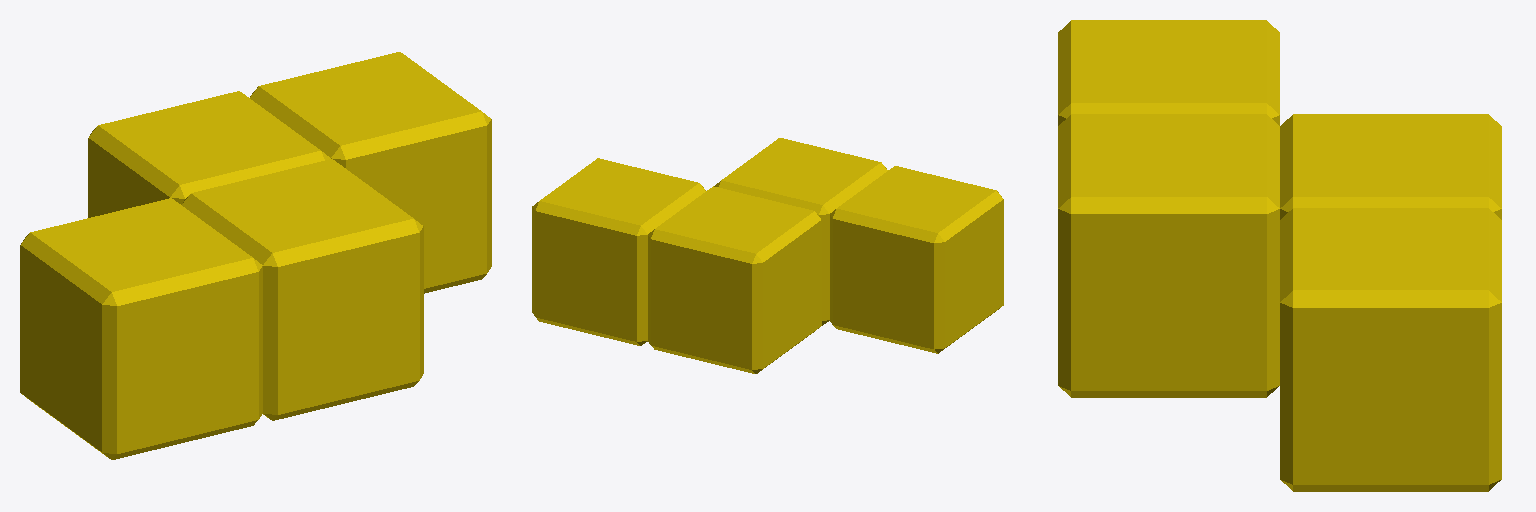
--- What the picture shows (computed from the rendered views, not written in the file) ---
3 views of the same robot in one strip: view 1: azimuth 30°, elevation 25°; view 2: azimuth 150°, elevation 25°; view 3: azimuth 270°, elevation 25° (orthographic).
Robot: obj_4 — 1 links, 0 joints (none); root link obj_4_link; default pose: all joints at 0.
Visible links, largest first — view 1: obj_4_link; view 2: obj_4_link; view 3: obj_4_link.
Boxes of the visible links, x1=… form: obj_4_link: x1=20, y1=52, x2=491, y2=459; obj_4_link: x1=532, y1=138, x2=1003, y2=373; obj_4_link: x1=1058, y1=20, x2=1501, y2=491.
Size in the robot's own frame: 0.375 by 0.25 by 0.125 metres.
1 mesh visuals loaded from 1 distinct referenced files (1 OBJ).

robot.urdf — obj_4:
<robot name="obj_4" version="1.0">
  <link name="obj_4_link">
    <collision name="obj_4-collision.001">
      <origin rpy="3.14159 -1.57080 0.00000" xyz="0.33845 0.22784 0.06446"/>
      <geometry>
        <mesh filename="../meshes/obj/obj_4-collision.001.obj" scale="1.00000 1.00000 1.00000"/>
      </geometry>
    </collision>
    <collision name="obj_4-collision.002">
      <origin rpy="3.14159 -1.57080 0.00000" xyz="0.21345 0.10284 0.06446"/>
      <geometry>
        <mesh filename="../meshes/obj/obj_4-collision.002.obj" scale="1.00000 1.00000 1.00000"/>
      </geometry>
    </collision>
    <collision name="obj_4-collision.003">
      <origin rpy="0.78540 0.00000 0.00000" xyz="0.27595 0.16909 0.12321"/>
      <geometry>
        <mesh filename="../meshes/obj/obj_4-collision.003.obj" scale="1.00000 1.00000 1.00000"/>
      </geometry>
    </collision>
    <collision name="obj_4-collision.004">
      <origin rpy="-0.00000 0.00000 -1.57080" xyz="0.27595 0.22784 0.12696"/>
      <geometry>
        <mesh filename="../meshes/obj/obj_4-collision.004.obj" scale="1.00000 1.00000 1.00000"/>
      </geometry>
    </collision>
    <collision name="obj_4-collision.005">
      <origin rpy="1.57080 -0.00000 2.35619" xyz="0.33470 0.28659 0.06446"/>
      <geometry>
        <mesh filename="../meshes/obj/obj_4-collision.005.obj" scale="1.00000 1.00000 1.00000"/>
      </geometry>
    </collision>
    <collision name="obj_4-collision.006">
      <origin rpy="-3.14159 -0.00000 1.57080" xyz="0.27595 0.22784 0.00196"/>
      <geometry>
        <mesh filename="../meshes/obj/obj_4-collision.006.obj" scale="1.00000 1.00000 1.00000"/>
      </geometry>
    </collision>
    <collision name="obj_4-collision.007">
      <origin rpy="2.35619 -0.00000 3.14159" xyz="0.27595 0.28659 0.00571"/>
      <geometry>
        <mesh filename="../meshes/obj/obj_4-collision.007.obj" scale="1.00000 1.00000 1.00000"/>
      </geometry>
    </collision>
    <collision name="obj_4-collision.008">
      <origin rpy="0.78540 -0.00000 -3.14159" xyz="0.27595 0.28659 0.12321"/>
      <geometry>
        <mesh filename="../meshes/obj/obj_4-collision.008.obj" scale="1.00000 1.00000 1.00000"/>
      </geometry>
    </collision>
    <collision name="obj_4-collision.009">
      <origin rpy="0.78540 0.00000 -1.57080" xyz="0.21720 0.22784 0.12321"/>
      <geometry>
        <mesh filename="../meshes/obj/obj_4-collision.009.obj" scale="1.00000 1.00000 1.00000"/>
      </geometry>
    </collision>
    <collision name="obj_4-collision.010">
      <origin rpy="1.57080 -0.00000 -2.35619" xyz="0.21720 0.28659 0.06446"/>
      <geometry>
        <mesh filename="../meshes/obj/obj_4-collision.010.obj" scale="1.00000 1.00000 1.00000"/>
      </geometry>
    </collision>
    <collision name="obj_4-collision.011">
      <origin rpy="-2.35619 0.00000 1.57080" xyz="0.21720 0.22784 0.00571"/>
      <geometry>
        <mesh filename="../meshes/obj/obj_4-collision.011.obj" scale="1.00000 1.00000 1.00000"/>
      </geometry>
    </collision>
    <collision name="obj_4-collision.012">
      <origin rpy="1.57080 0.00000 -0.78540" xyz="0.21720 0.16909 0.06446"/>
      <geometry>
        <mesh filename="../meshes/obj/obj_4-collision.012.obj" scale="1.00000 1.00000 1.00000"/>
      </geometry>
    </collision>
    <collision name="obj_4-collision.013">
      <origin rpy="2.35619 0.00000 0.00000" xyz="0.27595 0.16909 0.00571"/>
      <geometry>
        <mesh filename="../meshes/obj/obj_4-collision.013.obj" scale="1.00000 1.00000 1.00000"/>
      </geometry>
    </collision>
    <collision name="obj_4-collision.014">
      <origin rpy="-3.14159 -0.78540 -0.00000" xyz="0.33470 0.22784 0.00571"/>
      <geometry>
        <mesh filename="../meshes/obj/obj_4-collision.014.obj" scale="1.00000 1.00000 1.00000"/>
      </geometry>
    </collision>
    <collision name="obj_4-collision.015">
      <origin rpy="1.57080 -0.00000 -3.14159" xyz="0.27595 0.29034 0.06446"/>
      <geometry>
        <mesh filename="../meshes/obj/obj_4-collision.015.obj" scale="1.00000 1.00000 1.00000"/>
      </geometry>
    </collision>
    <collision name="obj_4-collision.016">
      <origin rpy="0.00000 -0.78540 -3.14159" xyz="0.33470 0.22784 0.12321"/>
      <geometry>
        <mesh filename="../meshes/obj/obj_4-collision.016.obj" scale="1.00000 1.00000 1.00000"/>
      </geometry>
    </collision>
    <collision name="obj_4-collision.017">
      <origin rpy="1.57080 0.00000 0.78540" xyz="0.33470 0.16909 0.06446"/>
      <geometry>
        <mesh filename="../meshes/obj/obj_4-collision.017.obj" scale="1.00000 1.00000 1.00000"/>
      </geometry>
    </collision>
    <collision name="obj_4-collision.018">
      <origin rpy="0.00000 -0.78540 -0.00000" xyz="0.34220 0.22784 0.12321"/>
      <geometry>
        <mesh filename="../meshes/obj/obj_4-collision.018.obj" scale="1.00000 1.00000 1.00000"/>
      </geometry>
    </collision>
    <collision name="obj_4-collision.019">
      <origin rpy="1.57080 0.00000 -0.78540" xyz="0.34220 0.16909 0.06446"/>
      <geometry>
        <mesh filename="../meshes/obj/obj_4-collision.019.obj" scale="1.00000 1.00000 1.00000"/>
      </geometry>
    </collision>
    <collision name="obj_4-collision.020">
      <origin rpy="3.14159 -0.78540 -3.14159" xyz="0.34220 0.22784 0.00571"/>
      <geometry>
        <mesh filename="../meshes/obj/obj_4-collision.020.obj" scale="1.00000 1.00000 1.00000"/>
      </geometry>
    </collision>
    <collision name="obj_4-collision.021">
      <origin rpy="-0.78540 -1.57080 0.00000" xyz="0.34220 0.28659 0.06446"/>
      <geometry>
        <mesh filename="../meshes/obj/obj_4-collision.021.obj" scale="1.00000 1.00000 1.00000"/>
      </geometry>
    </collision>
    <collision name="obj_4-collision.022">
      <origin rpy="-3.14159 -0.00000 1.57080" xyz="0.40095 0.22784 0.00196"/>
      <geometry>
        <mesh filename="../meshes/obj/obj_4-collision.022.obj" scale="1.00000 1.00000 1.00000"/>
      </geometry>
    </collision>
    <collision name="obj_4-collision.023">
      <origin rpy="2.35619 0.00000 0.00000" xyz="0.40095 0.16909 0.00571"/>
      <geometry>
        <mesh filename="../meshes/obj/obj_4-collision.023.obj" scale="1.00000 1.00000 1.00000"/>
      </geometry>
    </collision>
    <collision name="obj_4-collision.024">
      <origin rpy="1.57080 0.00000 0.00000" xyz="0.40095 0.16534 0.06446"/>
      <geometry>
        <mesh filename="../meshes/obj/obj_4-collision.024.obj" scale="1.00000 1.00000 1.00000"/>
      </geometry>
    </collision>
    <collision name="obj_4-collision.025">
      <origin rpy="0.78540 0.00000 0.00000" xyz="0.40095 0.16909 0.12321"/>
      <geometry>
        <mesh filename="../meshes/obj/obj_4-collision.025.obj" scale="1.00000 1.00000 1.00000"/>
      </geometry>
    </collision>
    <collision name="obj_4-collision.026">
      <origin rpy="-0.00000 0.00000 -1.57080" xyz="0.40095 0.22784 0.12696"/>
      <geometry>
        <mesh filename="../meshes/obj/obj_4-collision.026.obj" scale="1.00000 1.00000 1.00000"/>
      </geometry>
    </collision>
    <collision name="obj_4-collision.027">
      <origin rpy="-1.57080 1.57080 0.00000" xyz="0.40095 0.29034 0.06446"/>
      <geometry>
        <mesh filename="../meshes/obj/obj_4-collision.027.obj" scale="1.00000 1.00000 1.00000"/>
      </geometry>
    </collision>
    <collision name="obj_4-collision.028">
      <origin rpy="2.35619 -0.00000 3.14159" xyz="0.40095 0.28659 0.00571"/>
      <geometry>
        <mesh filename="../meshes/obj/obj_4-collision.028.obj" scale="1.00000 1.00000 1.00000"/>
      </geometry>
    </collision>
    <collision name="obj_4-collision.029">
      <origin rpy="0.78540 -0.00000 -3.14159" xyz="0.40095 0.28659 0.12321"/>
      <geometry>
        <mesh filename="../meshes/obj/obj_4-collision.029.obj" scale="1.00000 1.00000 1.00000"/>
      </geometry>
    </collision>
    <collision name="obj_4-collision.030">
      <origin rpy="0.00000 -0.78540 -3.14159" xyz="0.45970 0.22784 0.12321"/>
      <geometry>
        <mesh filename="../meshes/obj/obj_4-collision.030.obj" scale="1.00000 1.00000 1.00000"/>
      </geometry>
    </collision>
    <collision name="obj_4-collision.031">
      <origin rpy="1.57080 -0.00000 2.35619" xyz="0.45970 0.28659 0.06446"/>
      <geometry>
        <mesh filename="../meshes/obj/obj_4-collision.031.obj" scale="1.00000 1.00000 1.00000"/>
      </geometry>
    </collision>
    <collision name="obj_4-collision.032">
      <origin rpy="-3.14159 -0.78540 -0.00000" xyz="0.45970 0.22784 0.00571"/>
      <geometry>
        <mesh filename="../meshes/obj/obj_4-collision.032.obj" scale="1.00000 1.00000 1.00000"/>
      </geometry>
    </collision>
    <collision name="obj_4-collision.033">
      <origin rpy="1.57080 0.00000 0.78540" xyz="0.45970 0.16909 0.06446"/>
      <geometry>
        <mesh filename="../meshes/obj/obj_4-collision.033.obj" scale="1.00000 1.00000 1.00000"/>
      </geometry>
    </collision>
    <collision name="obj_4-collision.034">
      <origin rpy="0.00000 -0.78540 -3.14159" xyz="0.33470 0.10284 0.12321"/>
      <geometry>
        <mesh filename="../meshes/obj/obj_4-collision.034.obj" scale="1.00000 1.00000 1.00000"/>
      </geometry>
    </collision>
    <collision name="obj_4-collision.035">
      <origin rpy="1.57080 -0.00000 2.35619" xyz="0.33470 0.16159 0.06446"/>
      <geometry>
        <mesh filename="../meshes/obj/obj_4-collision.035.obj" scale="1.00000 1.00000 1.00000"/>
      </geometry>
    </collision>
    <collision name="obj_4-collision.036">
      <origin rpy="-3.14159 -0.78540 -0.00000" xyz="0.33470 0.10284 0.00571"/>
      <geometry>
        <mesh filename="../meshes/obj/obj_4-collision.036.obj" scale="1.00000 1.00000 1.00000"/>
      </geometry>
    </collision>
    <collision name="obj_4-collision.037">
      <origin rpy="1.57080 0.00000 0.78540" xyz="0.33470 0.04409 0.06446"/>
      <geometry>
        <mesh filename="../meshes/obj/obj_4-collision.037.obj" scale="1.00000 1.00000 1.00000"/>
      </geometry>
    </collision>
    <collision name="obj_4-collision.038">
      <origin rpy="0.00000 -0.78540 -3.14159" xyz="0.33470 0.10284 0.12321"/>
      <geometry>
        <mesh filename="../meshes/obj/obj_4-collision.038.obj" scale="1.00000 1.00000 1.00000"/>
      </geometry>
    </collision>
    <collision name="obj_4-collision.039">
      <origin rpy="1.57080 0.00000 0.00000" xyz="0.27595 0.04034 0.06446"/>
      <geometry>
        <mesh filename="../meshes/obj/obj_4-collision.039.obj" scale="1.00000 1.00000 1.00000"/>
      </geometry>
    </collision>
    <collision name="obj_4-collision.040">
      <origin rpy="0.78540 0.00000 0.00000" xyz="0.27595 0.04409 0.12321"/>
      <geometry>
        <mesh filename="../meshes/obj/obj_4-collision.040.obj" scale="1.00000 1.00000 1.00000"/>
      </geometry>
    </collision>
    <collision name="obj_4-collision.041">
      <origin rpy="-0.00000 0.00000 -1.57080" xyz="0.27595 0.10284 0.12696"/>
      <geometry>
        <mesh filename="../meshes/obj/obj_4-collision.041.obj" scale="1.00000 1.00000 1.00000"/>
      </geometry>
    </collision>
    <collision name="obj_4-collision.042">
      <origin rpy="0.78540 -0.00000 -3.14159" xyz="0.27595 0.16159 0.12321"/>
      <geometry>
        <mesh filename="../meshes/obj/obj_4-collision.042.obj" scale="1.00000 1.00000 1.00000"/>
      </geometry>
    </collision>
    <collision name="obj_4-collision.043">
      <origin rpy="2.35619 -0.00000 3.14159" xyz="0.27595 0.16159 0.00571"/>
      <geometry>
        <mesh filename="../meshes/obj/obj_4-collision.043.obj" scale="1.00000 1.00000 1.00000"/>
      </geometry>
    </collision>
    <collision name="obj_4-collision.044">
      <origin rpy="-3.14159 -0.00000 1.57080" xyz="0.27595 0.10284 0.00196"/>
      <geometry>
        <mesh filename="../meshes/obj/obj_4-collision.044.obj" scale="1.00000 1.00000 1.00000"/>
      </geometry>
    </collision>
    <collision name="obj_4-collision.045">
      <origin rpy="2.35619 0.00000 0.00000" xyz="0.27595 0.04409 0.00571"/>
      <geometry>
        <mesh filename="../meshes/obj/obj_4-collision.045.obj" scale="1.00000 1.00000 1.00000"/>
      </geometry>
    </collision>
    <collision name="obj_4-collision.046">
      <origin rpy="3.14159 -0.78540 -3.14159" xyz="0.21720 0.10284 0.00571"/>
      <geometry>
        <mesh filename="../meshes/obj/obj_4-collision.046.obj" scale="1.00000 1.00000 1.00000"/>
      </geometry>
    </collision>
    <collision name="obj_4-collision.047">
      <origin rpy="1.57080 0.00000 -0.78540" xyz="0.21720 0.04409 0.06446"/>
      <geometry>
        <mesh filename="../meshes/obj/obj_4-collision.047.obj" scale="1.00000 1.00000 1.00000"/>
      </geometry>
    </collision>
    <collision name="obj_4-collision.048">
      <origin rpy="0.00000 -0.78540 -0.00000" xyz="0.21720 0.10284 0.12321"/>
      <geometry>
        <mesh filename="../meshes/obj/obj_4-collision.048.obj" scale="1.00000 1.00000 1.00000"/>
      </geometry>
    </collision>
    <collision name="obj_4-collision.049">
      <origin rpy="1.57080 -0.00000 -2.35619" xyz="0.21720 0.16159 0.06446"/>
      <geometry>
        <mesh filename="../meshes/obj/obj_4-collision.049.obj" scale="1.00000 1.00000 1.00000"/>
      </geometry>
    </collision>
    <collision name="obj_4-collision.050">
      <origin rpy="-3.14159 -0.78540 -0.00000" xyz="0.20970 0.10284 0.00571"/>
      <geometry>
        <mesh filename="../meshes/obj/obj_4-collision.050.obj" scale="1.00000 1.00000 1.00000"/>
      </geometry>
    </collision>
    <collision name="obj_4-collision.051">
      <origin rpy="1.57080 0.00000 0.78540" xyz="0.20970 0.04409 0.06446"/>
      <geometry>
        <mesh filename="../meshes/obj/obj_4-collision.051.obj" scale="1.00000 1.00000 1.00000"/>
      </geometry>
    </collision>
    <collision name="obj_4-collision.052">
      <origin rpy="0.00000 -0.78540 -3.14159" xyz="0.20970 0.10284 0.12321"/>
      <geometry>
        <mesh filename="../meshes/obj/obj_4-collision.052.obj" scale="1.00000 1.00000 1.00000"/>
      </geometry>
    </collision>
    <collision name="obj_4-collision.053">
      <origin rpy="1.57080 -0.00000 2.35619" xyz="0.20970 0.16159 0.06446"/>
      <geometry>
        <mesh filename="../meshes/obj/obj_4-collision.053.obj" scale="1.00000 1.00000 1.00000"/>
      </geometry>
    </collision>
    <collision name="obj_4-collision.054">
      <origin rpy="-3.14159 -0.00000 1.57080" xyz="0.15095 0.10284 0.00196"/>
      <geometry>
        <mesh filename="../meshes/obj/obj_4-collision.054.obj" scale="1.00000 1.00000 1.00000"/>
      </geometry>
    </collision>
    <collision name="obj_4-collision.055">
      <origin rpy="2.35619 0.00000 0.00000" xyz="0.15095 0.04409 0.00571"/>
      <geometry>
        <mesh filename="../meshes/obj/obj_4-collision.055.obj" scale="1.00000 1.00000 1.00000"/>
      </geometry>
    </collision>
    <collision name="obj_4-collision.056">
      <origin rpy="1.57080 0.00000 0.00000" xyz="0.15095 0.04034 0.06446"/>
      <geometry>
        <mesh filename="../meshes/obj/obj_4-collision.056.obj" scale="1.00000 1.00000 1.00000"/>
      </geometry>
    </collision>
    <collision name="obj_4-collision.057">
      <origin rpy="0.78540 0.00000 0.00000" xyz="0.15095 0.04409 0.12321"/>
      <geometry>
        <mesh filename="../meshes/obj/obj_4-collision.057.obj" scale="1.00000 1.00000 1.00000"/>
      </geometry>
    </collision>
    <collision name="obj_4-collision.058">
      <origin rpy="-0.00000 0.00000 -1.57080" xyz="0.15095 0.10284 0.12696"/>
      <geometry>
        <mesh filename="../meshes/obj/obj_4-collision.058.obj" scale="1.00000 1.00000 1.00000"/>
      </geometry>
    </collision>
    <collision name="obj_4-collision.059">
      <origin rpy="0.78540 -0.00000 -3.14159" xyz="0.15095 0.16159 0.12321"/>
      <geometry>
        <mesh filename="../meshes/obj/obj_4-collision.059.obj" scale="1.00000 1.00000 1.00000"/>
      </geometry>
    </collision>
    <collision name="obj_4-collision.060">
      <origin rpy="1.57080 -0.00000 -3.14159" xyz="0.15095 0.16534 0.06446"/>
      <geometry>
        <mesh filename="../meshes/obj/obj_4-collision.060.obj" scale="1.00000 1.00000 1.00000"/>
      </geometry>
    </collision>
    <collision name="obj_4-collision.061">
      <origin rpy="2.35619 -0.00000 3.14159" xyz="0.15095 0.16159 0.00571"/>
      <geometry>
        <mesh filename="../meshes/obj/obj_4-collision.061.obj" scale="1.00000 1.00000 1.00000"/>
      </geometry>
    </collision>
    <collision name="obj_4-collision.062">
      <origin rpy="-2.35619 0.00000 1.57080" xyz="0.09220 0.10284 0.00571"/>
      <geometry>
        <mesh filename="../meshes/obj/obj_4-collision.062.obj" scale="1.00000 1.00000 1.00000"/>
      </geometry>
    </collision>
    <collision name="obj_4-collision.063">
      <origin rpy="1.57080 0.00000 -0.78540" xyz="0.09220 0.04409 0.06446"/>
      <geometry>
        <mesh filename="../meshes/obj/obj_4-collision.063.obj" scale="1.00000 1.00000 1.00000"/>
      </geometry>
    </collision>
    <collision name="obj_4-collision.064">
      <origin rpy="0.78540 0.00000 -1.57080" xyz="0.09220 0.10284 0.12321"/>
      <geometry>
        <mesh filename="../meshes/obj/obj_4-collision.064.obj" scale="1.00000 1.00000 1.00000"/>
      </geometry>
    </collision>
    <collision name="obj_4-collision.065">
      <origin rpy="-2.35619 1.57080 0.00000" xyz="0.09220 0.16159 0.06446"/>
      <geometry>
        <mesh filename="../meshes/obj/obj_4-collision.065.obj" scale="1.00000 1.00000 1.00000"/>
      </geometry>
    </collision>
    <collision name="obj_4-collision.066">
      <origin rpy="-0.00000 0.00000 -1.57080" xyz="0.27595 0.16534 0.06446"/>
      <geometry>
        <mesh filename="../meshes/obj/obj_4-collision.066.obj" scale="0.00500 0.00500 0.00500"/>
      </geometry>
    </collision>
    <collision name="obj_4-collision.067">
      <origin rpy="-0.00000 0.00000 -1.57080" xyz="0.27595 0.16534 0.06446"/>
      <geometry>
        <mesh filename="../meshes/obj/obj_4-collision.067.obj" scale="0.00500 0.00500 0.00500"/>
      </geometry>
    </collision>
    <collision name="obj_4-collision.068">
      <origin rpy="-0.00000 0.00000 -1.57080" xyz="0.27595 0.16534 0.06446"/>
      <geometry>
        <mesh filename="../meshes/obj/obj_4-collision.068.obj" scale="0.00500 0.00500 0.00500"/>
      </geometry>
    </collision>
    <collision name="obj_4-collision.069">
      <origin rpy="-0.00000 0.00000 -1.57080" xyz="0.27595 0.16534 0.06446"/>
      <geometry>
        <mesh filename="../meshes/obj/obj_4-collision.069.obj" scale="0.00500 0.00500 0.00500"/>
      </geometry>
    </collision>
    <collision name="obj_4-collision.070">
      <origin rpy="-0.00000 0.00000 -1.57080" xyz="0.27595 0.16534 0.06446"/>
      <geometry>
        <mesh filename="../meshes/obj/obj_4-collision.070.obj" scale="0.00500 0.00500 0.00500"/>
      </geometry>
    </collision>
    <collision name="obj_4-collision.071">
      <origin rpy="-0.00000 0.00000 -1.57080" xyz="0.27595 0.16534 0.06446"/>
      <geometry>
        <mesh filename="../meshes/obj/obj_4-collision.071.obj" scale="0.00500 0.00500 0.00500"/>
      </geometry>
    </collision>
    <collision name="obj_4-collision.072">
      <origin rpy="-0.00000 0.00000 -1.57080" xyz="0.27595 0.16534 0.06446"/>
      <geometry>
        <mesh filename="../meshes/obj/obj_4-collision.072.obj" scale="0.00500 0.00500 0.00500"/>
      </geometry>
    </collision>
    <collision name="obj_4-collision.073">
      <origin rpy="-0.00000 0.00000 -1.57080" xyz="0.27595 0.16534 0.06446"/>
      <geometry>
        <mesh filename="../meshes/obj/obj_4-collision.073.obj" scale="0.00500 0.00500 0.00500"/>
      </geometry>
    </collision>
    <collision name="obj_4-collision.074">
      <origin rpy="-0.00000 0.00000 -1.57080" xyz="0.27595 0.16534 0.06446"/>
      <geometry>
        <mesh filename="../meshes/obj/obj_4-collision.074.obj" scale="0.00500 0.00500 0.00500"/>
      </geometry>
    </collision>
    <collision name="obj_4-collision.075">
      <origin rpy="-0.00000 0.00000 -1.57080" xyz="0.27595 0.16534 0.06446"/>
      <geometry>
        <mesh filename="../meshes/obj/obj_4-collision.075.obj" scale="0.00500 0.00500 0.00500"/>
      </geometry>
    </collision>
    <collision name="obj_4-collision.076">
      <origin rpy="-0.00000 0.00000 -1.57080" xyz="0.27595 0.16534 0.06446"/>
      <geometry>
        <mesh filename="../meshes/obj/obj_4-collision.076.obj" scale="0.00500 0.00500 0.00500"/>
      </geometry>
    </collision>
    <collision name="obj_4-collision.077">
      <origin rpy="-0.00000 0.00000 -1.57080" xyz="0.27595 0.16534 0.06446"/>
      <geometry>
        <mesh filename="../meshes/obj/obj_4-collision.077.obj" scale="0.00500 0.00500 0.00500"/>
      </geometry>
    </collision>
    <collision name="obj_4-collision.078">
      <origin rpy="-0.00000 0.00000 -1.57080" xyz="0.27595 0.16534 0.06446"/>
      <geometry>
        <mesh filename="../meshes/obj/obj_4-collision.078.obj" scale="0.00500 0.00500 0.00500"/>
      </geometry>
    </collision>
    <collision name="obj_4-collision.079">
      <origin rpy="-0.00000 0.00000 -1.57080" xyz="0.27595 0.16534 0.06446"/>
      <geometry>
        <mesh filename="../meshes/obj/obj_4-collision.079.obj" scale="0.00500 0.00500 0.00500"/>
      </geometry>
    </collision>
    <collision name="obj_4-collision.080">
      <origin rpy="-0.00000 0.00000 -1.57080" xyz="0.27595 0.16534 0.06446"/>
      <geometry>
        <mesh filename="../meshes/obj/obj_4-collision.080.obj" scale="0.00500 0.00500 0.00500"/>
      </geometry>
    </collision>
    <collision name="obj_4-collision.081">
      <origin rpy="-0.00000 0.00000 -1.57080" xyz="0.27595 0.16534 0.06446"/>
      <geometry>
        <mesh filename="../meshes/obj/obj_4-collision.081.obj" scale="0.00500 0.00500 0.00500"/>
      </geometry>
    </collision>
    <collision name="obj_4-collision.082">
      <origin rpy="-0.00000 0.00000 -1.57080" xyz="0.27595 0.16534 0.06446"/>
      <geometry>
        <mesh filename="../meshes/obj/obj_4-collision.082.obj" scale="0.00500 0.00500 0.00500"/>
      </geometry>
    </collision>
    <collision name="obj_4-collision.083">
      <origin rpy="-0.00000 0.00000 -1.57080" xyz="0.27595 0.16534 0.06446"/>
      <geometry>
        <mesh filename="../meshes/obj/obj_4-collision.083.obj" scale="0.00500 0.00500 0.00500"/>
      </geometry>
    </collision>
    <collision name="obj_4-collision.084">
      <origin rpy="-0.00000 0.00000 -1.57080" xyz="0.27595 0.16534 0.06446"/>
      <geometry>
        <mesh filename="../meshes/obj/obj_4-collision.084.obj" scale="0.00500 0.00500 0.00500"/>
      </geometry>
    </collision>
    <collision name="obj_4-collision.085">
      <origin rpy="-0.00000 0.00000 -1.57080" xyz="0.27595 0.16534 0.06446"/>
      <geometry>
        <mesh filename="../meshes/obj/obj_4-collision.085.obj" scale="0.00500 0.00500 0.00500"/>
      </geometry>
    </collision>
    <collision name="obj_4-collision.086">
      <origin rpy="-0.00000 0.00000 -1.57080" xyz="0.27595 0.16534 0.06446"/>
      <geometry>
        <mesh filename="../meshes/obj/obj_4-collision.086.obj" scale="0.00500 0.00500 0.00500"/>
      </geometry>
    </collision>
    <collision name="obj_4-collision.087">
      <origin rpy="-0.00000 0.00000 -1.57080" xyz="0.27595 0.16534 0.06446"/>
      <geometry>
        <mesh filename="../meshes/obj/obj_4-collision.087.obj" scale="0.00500 0.00500 0.00500"/>
      </geometry>
    </collision>
    <collision name="obj_4-collision.088">
      <origin rpy="-0.00000 0.00000 -1.57080" xyz="0.27595 0.16534 0.06446"/>
      <geometry>
        <mesh filename="../meshes/obj/obj_4-collision.088.obj" scale="0.00500 0.00500 0.00500"/>
      </geometry>
    </collision>
    <collision name="obj_4-collision.089">
      <origin rpy="-0.00000 0.00000 -1.57080" xyz="0.27595 0.16534 0.06446"/>
      <geometry>
        <mesh filename="../meshes/obj/obj_4-collision.089.obj" scale="0.00500 0.00500 0.00500"/>
      </geometry>
    </collision>
    <collision name="obj_4-collision.090">
      <origin rpy="-0.00000 0.00000 -1.57080" xyz="0.27595 0.16534 0.06446"/>
      <geometry>
        <mesh filename="../meshes/obj/obj_4-collision.090.obj" scale="0.00500 0.00500 0.00500"/>
      </geometry>
    </collision>
    <collision name="obj_4-collision.091">
      <origin rpy="-0.00000 0.00000 -1.57080" xyz="0.27595 0.16534 0.06446"/>
      <geometry>
        <mesh filename="../meshes/obj/obj_4-collision.091.obj" scale="0.00500 0.00500 0.00500"/>
      </geometry>
    </collision>
    <collision name="obj_4-collision.092">
      <origin rpy="-0.00000 0.00000 -1.57080" xyz="0.27595 0.16534 0.06446"/>
      <geometry>
        <mesh filename="../meshes/obj/obj_4-collision.092.obj" scale="0.00500 0.00500 0.00500"/>
      </geometry>
    </collision>
    <collision name="obj_4-collision.093">
      <origin rpy="-0.00000 0.00000 -1.57080" xyz="0.27595 0.16534 0.06446"/>
      <geometry>
        <mesh filename="../meshes/obj/obj_4-collision.093.obj" scale="0.00500 0.00500 0.00500"/>
      </geometry>
    </collision>
    <collision name="obj_4-collision.094">
      <origin rpy="-0.00000 0.00000 -1.57080" xyz="0.27595 0.16534 0.06446"/>
      <geometry>
        <mesh filename="../meshes/obj/obj_4-collision.094.obj" scale="0.00500 0.00500 0.00500"/>
      </geometry>
    </collision>
    <collision name="obj_4-collision.095">
      <origin rpy="-0.00000 0.00000 -1.57080" xyz="0.27595 0.16534 0.06446"/>
      <geometry>
        <mesh filename="../meshes/obj/obj_4-collision.095.obj" scale="0.00500 0.00500 0.00500"/>
      </geometry>
    </collision>
    <collision name="obj_4-collision.096">
      <origin rpy="-0.00000 0.00000 -1.57080" xyz="0.27595 0.16534 0.06446"/>
      <geometry>
        <mesh filename="../meshes/obj/obj_4-collision.096.obj" scale="0.00500 0.00500 0.00500"/>
      </geometry>
    </collision>
    <collision name="obj_4-collision.097">
      <origin rpy="-0.00000 0.00000 -1.57080" xyz="0.27595 0.16534 0.06446"/>
      <geometry>
        <mesh filename="../meshes/obj/obj_4-collision.097.obj" scale="0.00500 0.00500 0.00500"/>
      </geometry>
    </collision>
    <inertial>
      <inertia ixx="0.00032" ixy="-0.00019" ixz="-0.00000" iyy="0.00052" iyz="-0.00000" izz="0.00071"/>
      <origin rpy="0.00000 0.00000 0.00000" xyz="0.27595 0.16534 0.06446"/>
      <mass value="0.05000"/>
    </inertial>
    <visual name="obj_4">
      <material name="turnarrow_yellow"/>
      <origin rpy="-0.00000 0.00000 -1.57080" xyz="0.27595 0.16534 0.06446"/>
      <geometry>
        <mesh filename="../meshes/obj/bt_cube3x3_bricks.003.obj" scale="0.00500 0.00500 0.00500"/>
      </geometry>
    </visual>
  </link>
  <material name="turnarrow_yellow">
    <color rgba="0.87059 0.77255 0.05098 1.00000"/>
  </material>
</robot>
